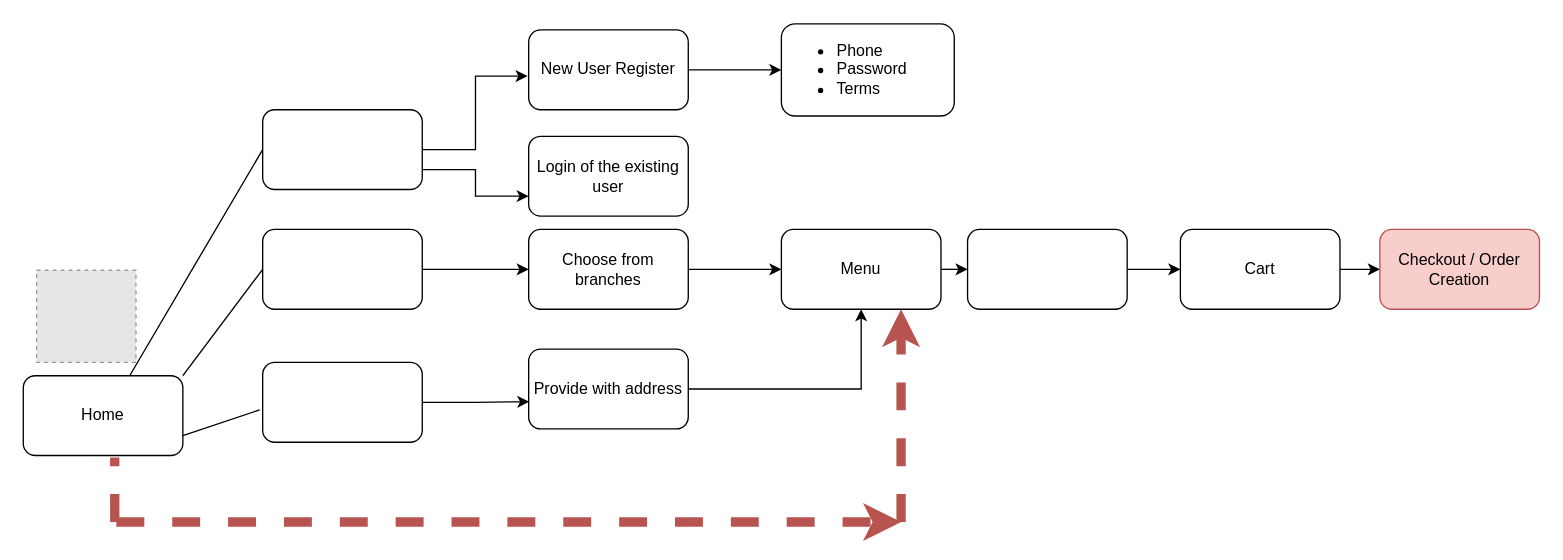
This 1563x560 diagram has some shape labels left out. Grey dashed boxes stand in for pictures. The shapes that lost their labels are listed below. From the top down, each one's box as (x1, y1, x2, y2) in pixels, then its label:
(261, 108, 422, 190): Login / Registration
(261, 228, 422, 309): SELF PICKUP
(966, 228, 1127, 309): Product Configuration
(261, 361, 422, 442): ORDER DELIVERY
